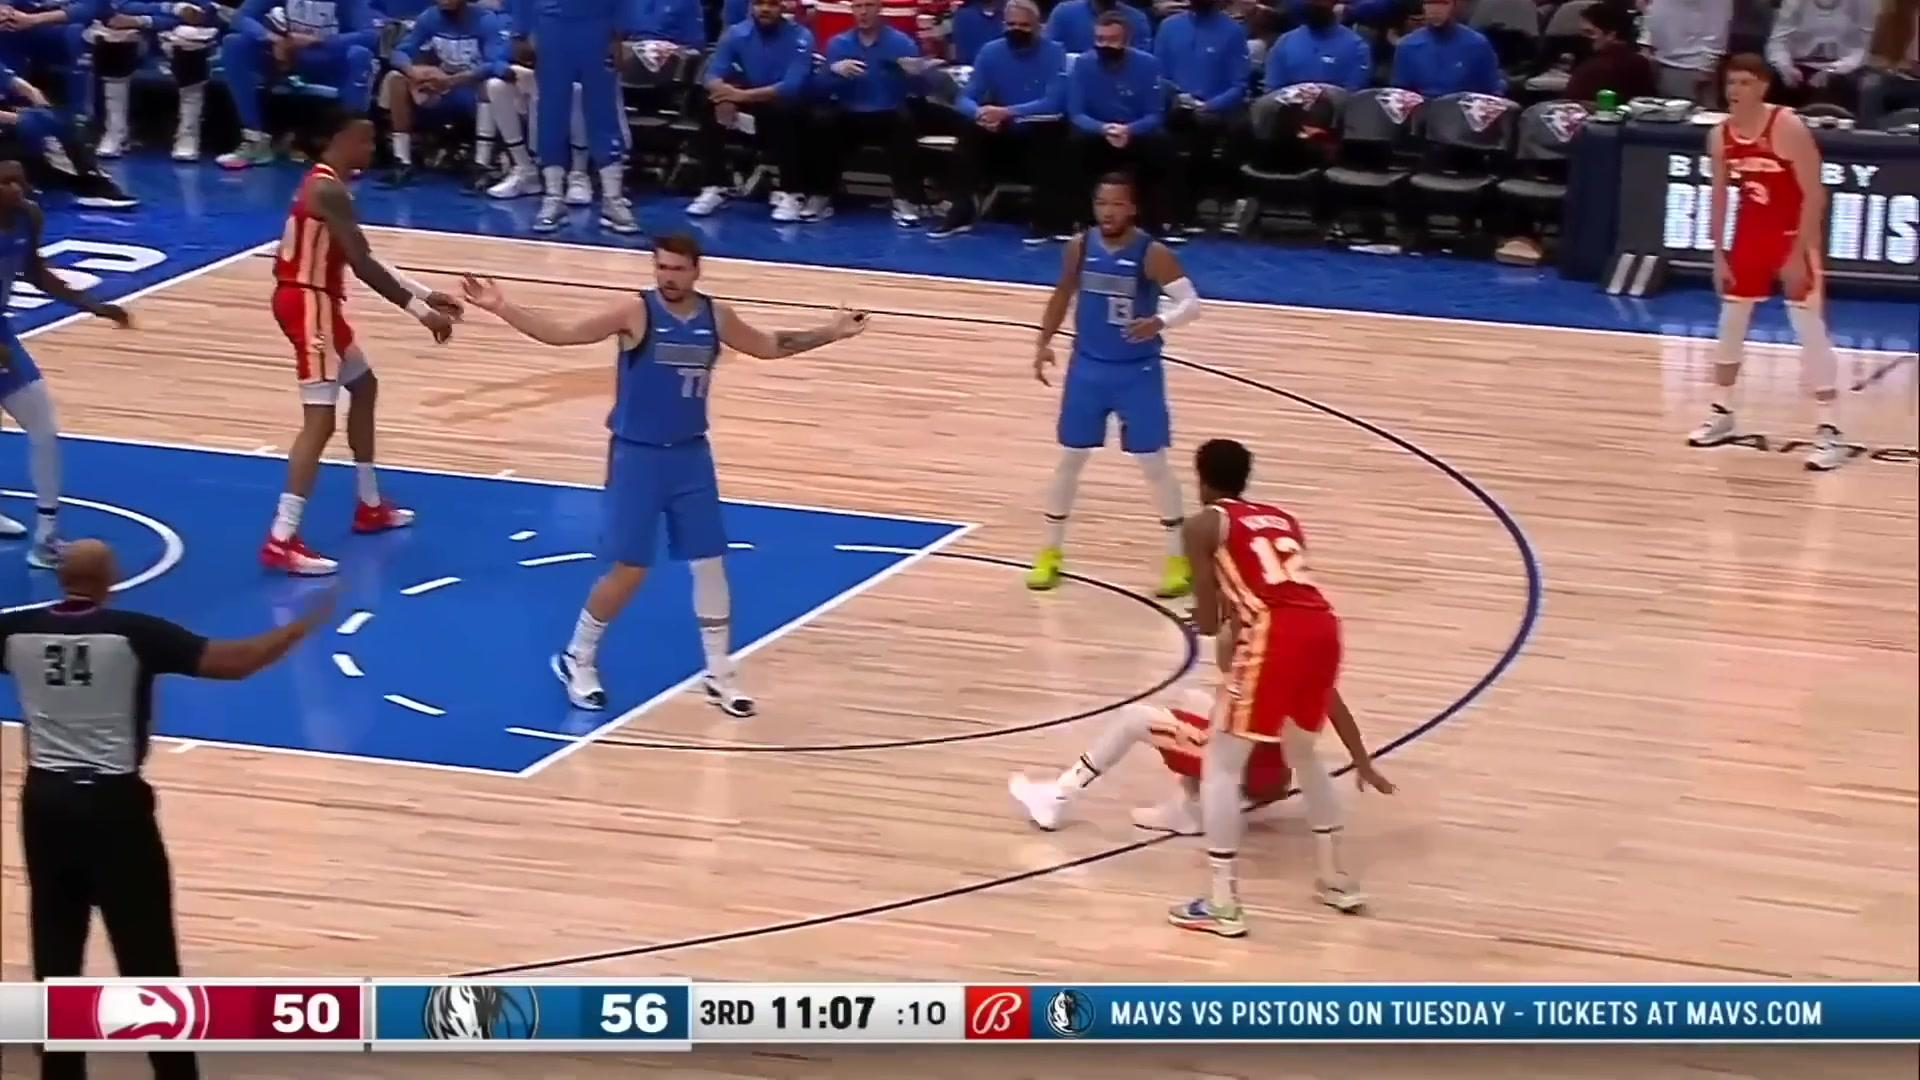no_foul: (1009, 170, 1379, 932)
